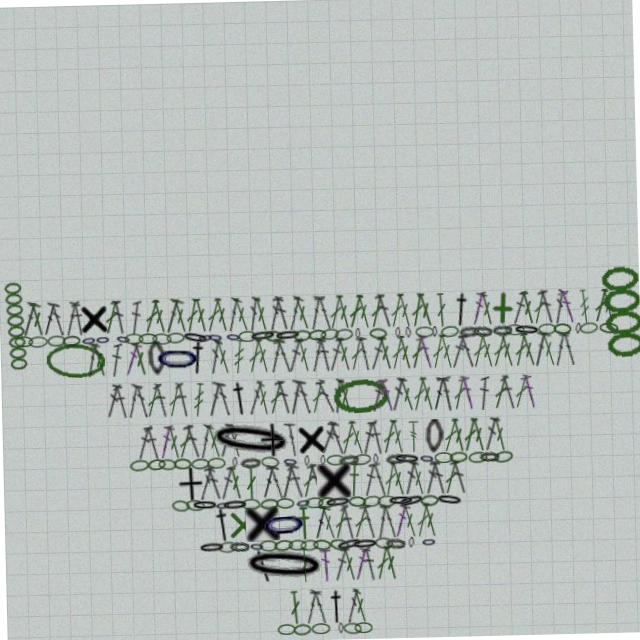chain: (204, 416, 292, 461), (235, 545, 322, 584), (44, 336, 106, 373), (330, 378, 389, 415), (255, 505, 303, 541), (153, 337, 201, 372), (146, 337, 166, 372), (422, 422, 441, 456), (330, 537, 358, 553), (393, 495, 421, 511), (181, 327, 209, 343), (431, 496, 459, 510), (320, 496, 347, 509), (249, 328, 276, 341), (274, 328, 301, 341), (193, 539, 220, 551), (346, 539, 373, 551), (217, 497, 244, 509), (390, 455, 417, 467), (513, 329, 540, 341), (187, 497, 214, 508), (383, 497, 410, 508), (324, 538, 344, 552), (490, 454, 510, 468), (335, 454, 356, 467), (382, 454, 403, 467), (268, 538, 288, 551), (181, 496, 201, 509), (369, 538, 388, 551), (167, 496, 186, 509), (313, 496, 332, 509), (358, 496, 377, 509), (144, 454, 163, 467), (349, 454, 368, 467), (320, 328, 339, 341), (440, 328, 459, 341), (579, 328, 598, 341), (380, 539, 400, 551), (126, 455, 146, 467), (237, 455, 257, 467), (459, 329, 479, 341), (472, 329, 492, 341), (213, 539, 232, 551), (307, 539, 326, 551), (257, 455, 276, 467), (465, 455, 484, 467), (28, 329, 47, 341), (152, 329, 171, 341), (334, 329, 353, 341), (599, 329, 618, 341), (224, 539, 244, 550), (476, 455, 496, 466), (492, 329, 512, 340), (286, 623, 304, 635), (336, 623, 354, 635), (295, 539, 313, 551), (256, 497, 274, 509), (416, 497, 434, 509), (155, 455, 173, 467), (188, 455, 206, 467), (62, 329, 80, 341), (264, 329, 282, 341), (293, 329, 311, 341), (308, 329, 326, 341), (369, 329, 387, 341), (304, 623, 323, 634), (237, 497, 256, 508), (373, 497, 392, 508), (323, 455, 342, 466), (431, 455, 450, 466), (14, 329, 33, 340), (124, 329, 143, 340), (138, 329, 157, 340), (415, 329, 434, 340), (505, 329, 524, 340), (291, 496, 307, 509), (115, 328, 131, 341), (270, 623, 288, 634), (347, 623, 365, 634), (254, 539, 272, 550), (283, 539, 301, 550), (272, 497, 290, 508), (301, 497, 319, 508), (344, 497, 362, 508), (170, 455, 188, 466), (204, 455, 222, 466), (446, 455, 464, 466), (47, 329, 65, 340), (166, 329, 184, 340), (238, 329, 256, 340), (538, 329, 556, 340), (553, 329, 571, 340), (279, 455, 295, 467), (197, 329, 213, 341), (207, 329, 223, 341), (225, 329, 241, 341), (244, 539, 259, 551), (211, 497, 226, 509), (416, 455, 431, 467), (81, 329, 96, 341), (416, 539, 431, 550), (95, 329, 110, 340), (403, 539, 409, 550), (405, 329, 411, 340), (575, 329, 581, 340), (331, 623, 336, 634), (229, 455, 234, 466), (301, 455, 306, 466), (317, 455, 322, 466), (370, 455, 375, 466), (355, 329, 360, 340), (395, 329, 400, 340), (432, 329, 437, 340)
double: (18, 295, 42, 331), (161, 295, 185, 331), (273, 463, 296, 499), (202, 379, 225, 415), (305, 505, 327, 541), (254, 463, 276, 499), (529, 337, 551, 373), (39, 295, 61, 331), (315, 421, 337, 456), (262, 463, 283, 499), (284, 379, 305, 415), (427, 379, 448, 415), (435, 379, 456, 415), (272, 337, 293, 373), (313, 505, 334, 540), (200, 463, 221, 498), (180, 421, 201, 456), (121, 337, 142, 372), (231, 295, 252, 330), (292, 295, 313, 330), (295, 589, 315, 624), (303, 589, 323, 624), (346, 505, 366, 540), (375, 505, 395, 540), (395, 505, 415, 540), (303, 463, 323, 498), (365, 463, 385, 498), (446, 463, 466, 498), (173, 421, 193, 456), (201, 421, 221, 456), (344, 421, 364, 456), (438, 421, 458, 456), (244, 379, 264, 414), (375, 379, 395, 414), (395, 379, 415, 414), (489, 379, 509, 414), (212, 337, 232, 372), (265, 337, 285, 372), (306, 337, 326, 372), (415, 337, 435, 372), (489, 337, 509, 372), (518, 337, 538, 372), (538, 337, 558, 372), (61, 295, 81, 330), (142, 295, 162, 330), (204, 295, 224, 330), (285, 295, 305, 330), (314, 295, 334, 330), (346, 295, 366, 330), (375, 295, 395, 330), (416, 295, 436, 330), (558, 295, 578, 330), (591, 295, 611, 330), (314, 380, 334, 414), (344, 589, 363, 624), (334, 547, 353, 582), (346, 547, 365, 582), (354, 505, 373, 540), (387, 505, 406, 540), (416, 505, 435, 540), (193, 463, 212, 498), (283, 463, 302, 498), (385, 463, 404, 498), (405, 463, 424, 498), (426, 463, 445, 498), (438, 463, 457, 498), (193, 421, 212, 456), (214, 421, 233, 456), (222, 421, 241, 456), (336, 421, 355, 456), (377, 421, 396, 456), (458, 421, 477, 456), (479, 421, 498, 456), (102, 379, 121, 414), (122, 379, 141, 414), (142, 379, 161, 414), (265, 379, 284, 414), (273, 379, 292, 414), (334, 379, 353, 414), (387, 379, 406, 414), (408, 379, 427, 414), (416, 379, 435, 414), (510, 379, 529, 414), (81, 337, 100, 372), (89, 337, 108, 372), (130, 337, 149, 372), (334, 337, 353, 372), (375, 337, 394, 372), (395, 337, 414, 372), (469, 337, 488, 372), (477, 337, 496, 372), (497, 337, 516, 372), (550, 337, 569, 372), (558, 337, 577, 372), (28, 295, 47, 330), (102, 295, 121, 330), (150, 295, 169, 330), (171, 295, 190, 330), (224, 295, 243, 330), (252, 295, 271, 330), (273, 295, 292, 330), (306, 295, 325, 330), (469, 295, 488, 330), (538, 295, 557, 330), (337, 589, 355, 624), (368, 547, 386, 582), (376, 547, 394, 582), (327, 505, 345, 540), (368, 505, 386, 540), (409, 505, 427, 540), (223, 463, 241, 498), (296, 463, 314, 498), (398, 463, 416, 498), (419, 463, 437, 498), (141, 421, 159, 456), (154, 421, 172, 456), (162, 421, 180, 456), (386, 421, 404, 456), (447, 421, 465, 456), (467, 421, 485, 456), (488, 421, 506, 456), (164, 379, 182, 414), (307, 379, 325, 414), (449, 379, 467, 414), (457, 379, 475, 414), (498, 379, 516, 414), (519, 379, 537, 414), (245, 337, 263, 372), (253, 337, 271, 372), (294, 337, 312, 372), (347, 337, 365, 372), (368, 337, 386, 372), (388, 337, 406, 372), (408, 337, 426, 372), (437, 337, 455, 372), (449, 337, 467, 372), (511, 337, 529, 372), (192, 295, 210, 330), (213, 295, 231, 330), (266, 295, 284, 330), (327, 295, 345, 330), (335, 295, 353, 330), (355, 295, 373, 330), (368, 295, 386, 330), (388, 295, 406, 330), (396, 295, 414, 330), (478, 295, 496, 330), (511, 295, 529, 330), (519, 295, 537, 330), (531, 295, 549, 330), (327, 547, 344, 582), (335, 505, 352, 540), (215, 463, 232, 498), (378, 463, 395, 498), (133, 421, 150, 456), (325, 421, 342, 456), (111, 379, 128, 414), (151, 379, 168, 414), (253, 379, 270, 414), (294, 379, 311, 414), (368, 379, 385, 414), (286, 337, 303, 372), (327, 337, 344, 372), (355, 337, 372, 372), (429, 337, 446, 372), (49, 295, 66, 330), (111, 295, 128, 330), (184, 295, 201, 330), (409, 295, 426, 330), (551, 295, 568, 330), (600, 295, 617, 330), (356, 547, 372, 582), (281, 421, 297, 456), (358, 421, 374, 456), (366, 421, 382, 456), (132, 379, 148, 414), (173, 379, 189, 414), (214, 379, 230, 414), (206, 337, 222, 372), (316, 337, 332, 372), (458, 337, 474, 372), (359, 463, 374, 498), (71, 295, 86, 330), (246, 295, 261, 330), (329, 379, 343, 414), (282, 590, 295, 624), (109, 338, 122, 372), (435, 296, 448, 330), (293, 548, 305, 582), (314, 548, 326, 582), (130, 296, 142, 330), (242, 464, 253, 498), (477, 380, 488, 414)
enseble_chain: (598, 272, 640, 368), (4, 275, 28, 364)
half_double: (244, 546, 271, 583), (450, 295, 473, 331), (207, 505, 229, 540), (227, 379, 249, 414), (186, 337, 208, 372), (320, 590, 339, 624), (292, 506, 306, 540), (343, 464, 357, 498)
single: (240, 505, 275, 540), (485, 295, 520, 330), (221, 506, 255, 540), (313, 464, 347, 498), (293, 421, 325, 456), (79, 296, 110, 330), (173, 464, 200, 498), (256, 422, 282, 456)
treble: (190, 380, 204, 414), (231, 338, 245, 372), (578, 296, 592, 330), (405, 422, 417, 456)
